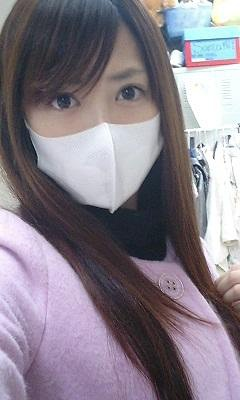face_mask: (30, 9, 158, 210)
